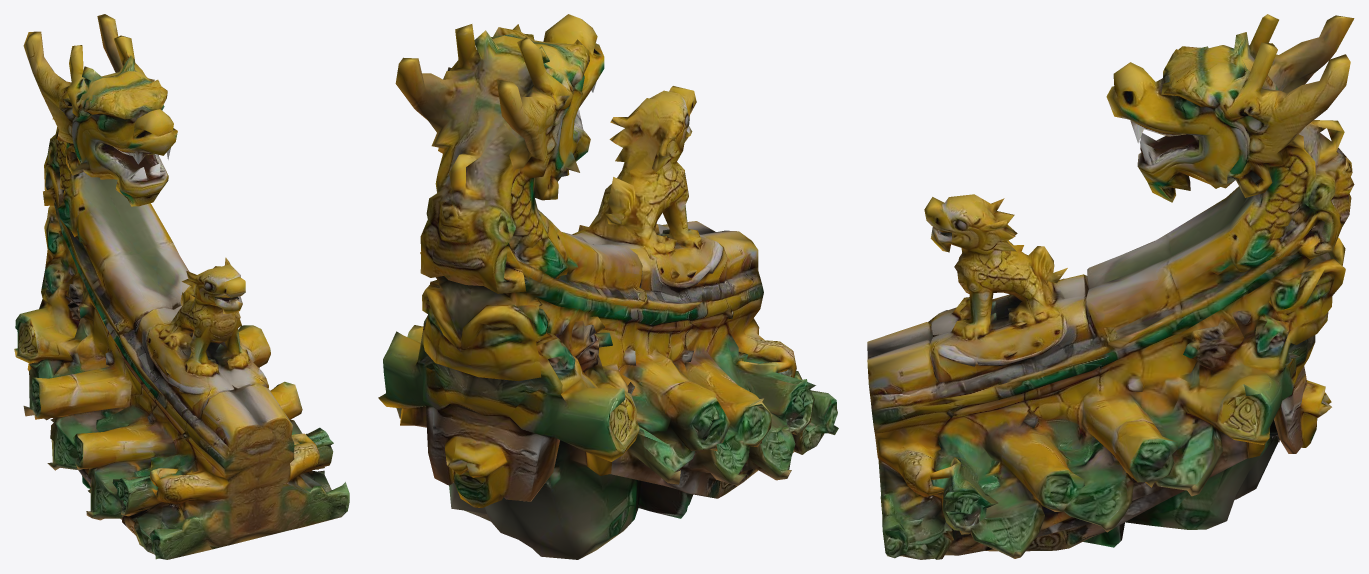
The model's file is chiwen.glb.
The picture shows the model from 3 angles, left to right: view 1: azimuth 30°, elevation 25°; view 2: azimuth 150°, elevation 25°; view 3: azimuth 270°, elevation 25°; orthographic projection. The views are drawn at different scales.
Parts seen in each view (by area): view 1: node_9c6f6eae-abde-41af-af5f-752dbf3e6ef9; view 2: node_9c6f6eae-abde-41af-af5f-752dbf3e6ef9; view 3: node_9c6f6eae-abde-41af-af5f-752dbf3e6ef9.
Boxes of the visible parts, <box> form: node_9c6f6eae-abde-41af-af5f-752dbf3e6ef9: <box>14,14,349,559</box>; node_9c6f6eae-abde-41af-af5f-752dbf3e6ef9: <box>378,14,838,559</box>; node_9c6f6eae-abde-41af-af5f-752dbf3e6ef9: <box>867,14,1354,559</box>.
Size of the model in its own units: 0.6316 by 1 by 0.9274.
1 material, 1 textured.
